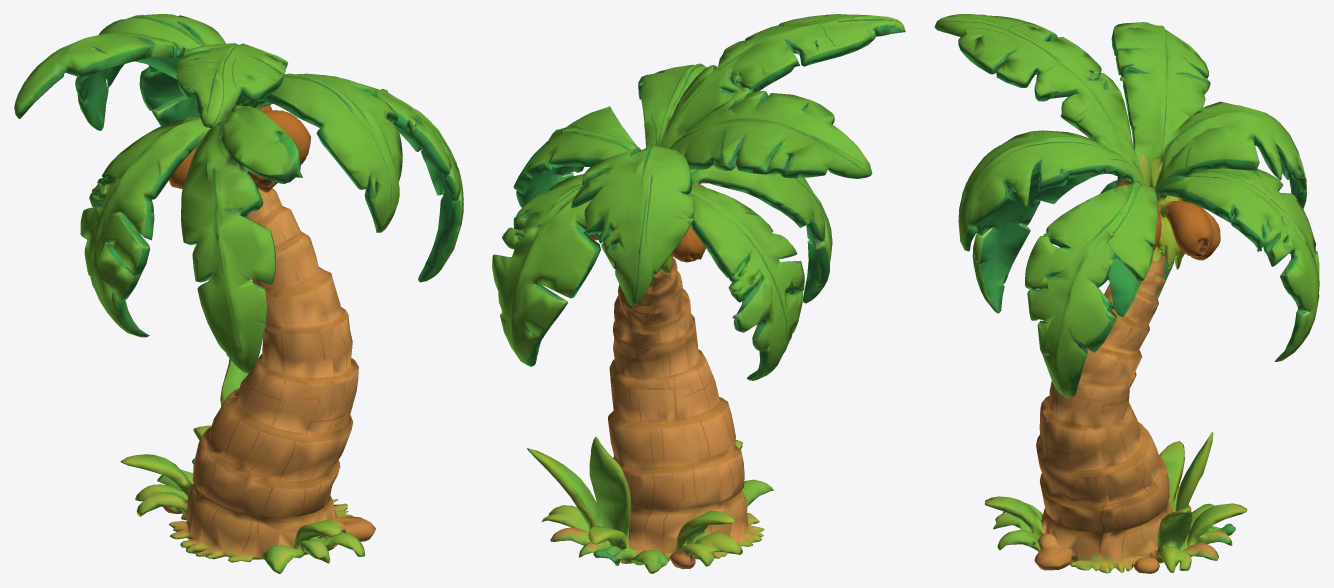
File: palm.glb
The picture shows the model from 3 angles, left to right: view 1: azimuth 30°, elevation 25°; view 2: azimuth 150°, elevation 25°; view 3: azimuth 270°, elevation 25°; orthographic projection. The views are drawn at different scales.
Parts seen in each view (by area): view 1: tripo_node_73a3431b-034f-4289-b443-783022ed0d8d; view 2: tripo_node_73a3431b-034f-4289-b443-783022ed0d8d; view 3: tripo_node_73a3431b-034f-4289-b443-783022ed0d8d.
Part boxes in pixels (box(x1,y1,x2,y2)): tripo_node_73a3431b-034f-4289-b443-783022ed0d8d: box(14, 14, 463, 573); tripo_node_73a3431b-034f-4289-b443-783022ed0d8d: box(492, 14, 905, 573); tripo_node_73a3431b-034f-4289-b443-783022ed0d8d: box(934, 14, 1319, 573).
Size of the model in its own units: 0.7931 by 0.9998 by 0.7414.
1 material, 1 textured.
